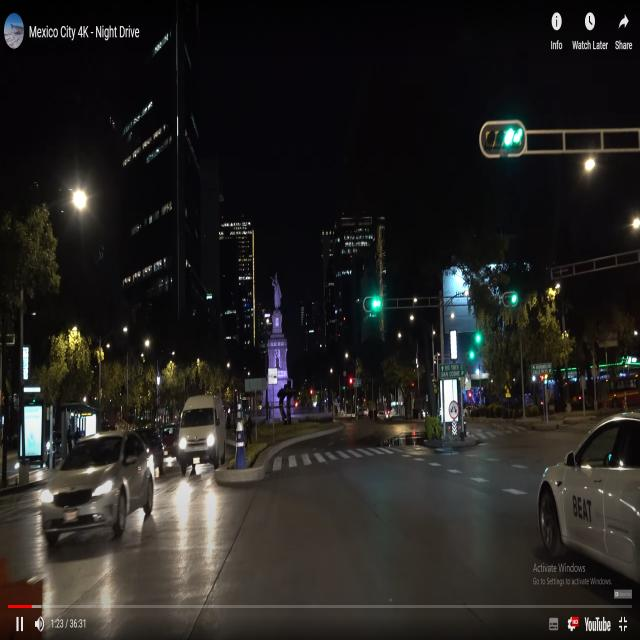headlights: (34, 474, 116, 523), (174, 431, 220, 459)
